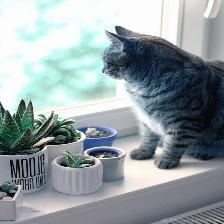kedo: (99, 25, 224, 167)
